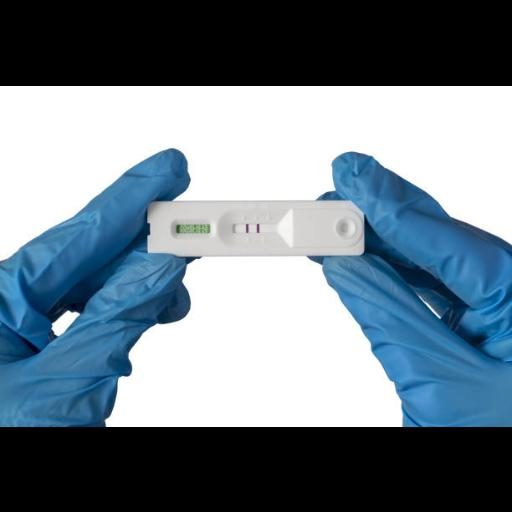Pos: (147, 200, 363, 254)
